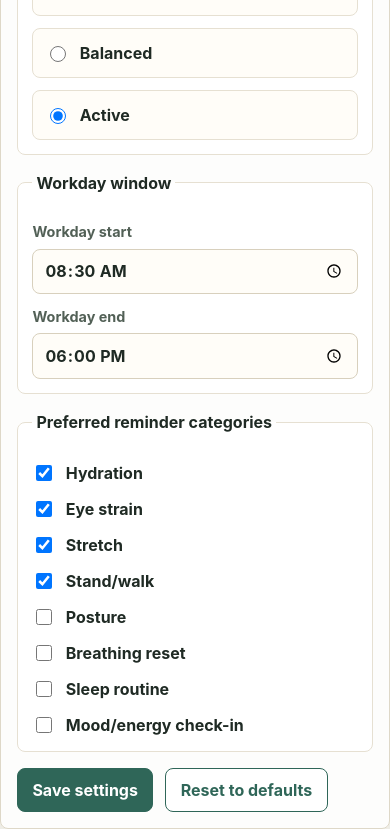
Test: VitaLoop app shell › resets settings to defaults
(page scrolled)
Click the button "Reset to defaults" at x=246, y=790, box x1=165 y1=768 x2=328 y2=812
(page scrolled)
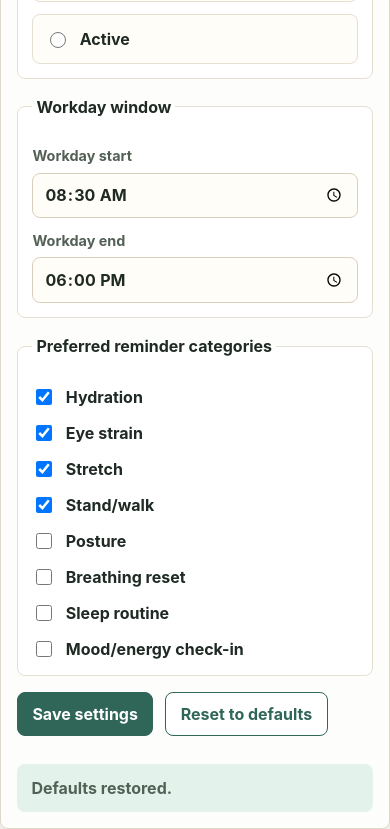
Expected: the message reads "Defaults restored.", x1=31 y1=778 x2=172 y2=798
